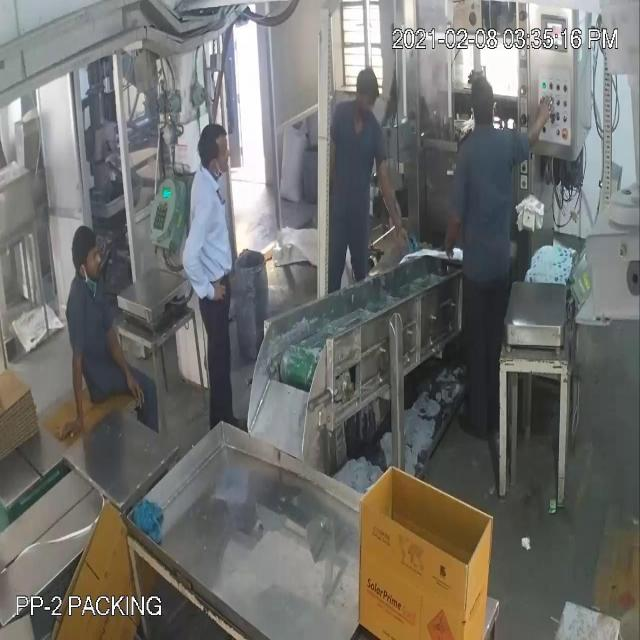No_Gloves: (34, 80, 541, 394)
